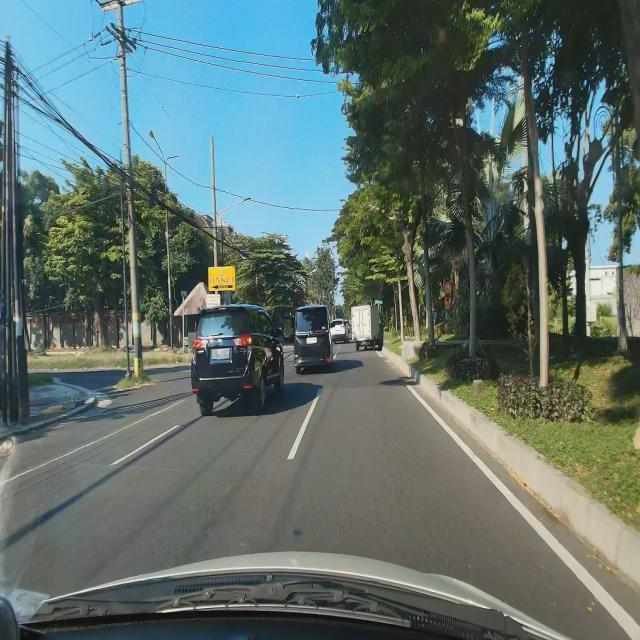car: (190, 300, 285, 419), (293, 301, 333, 375)
license-plate: (212, 346, 230, 361), (306, 336, 318, 344)
truck: (350, 305, 385, 353)
